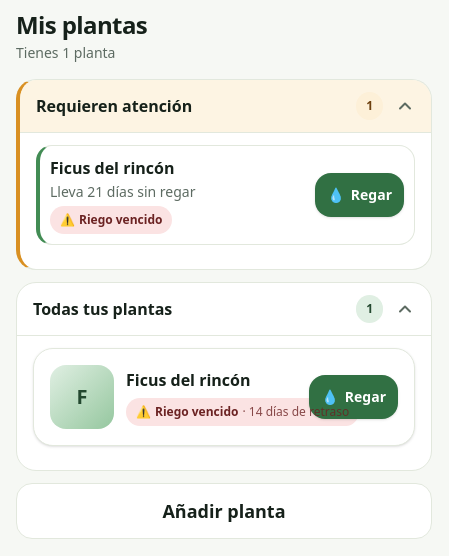
Test case: <Inicio> › tras regar la planta sale de "Requieren atención" y avisa de que quedó guardado
The width and height of the screenshot is (449, 556).
Click the 1st button "💧 Regar" at (360, 195), box 315,173 -> 404,217
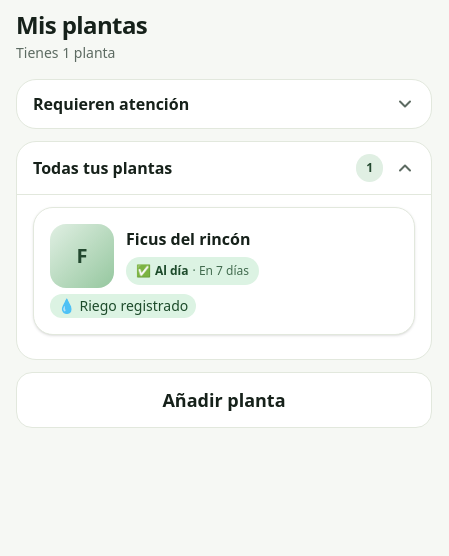
expect the text "Al día" is shown: met, box 155,261 -> 189,281
expect the text "Riego registrado" is shown: met, box 80,296 -> 188,315
